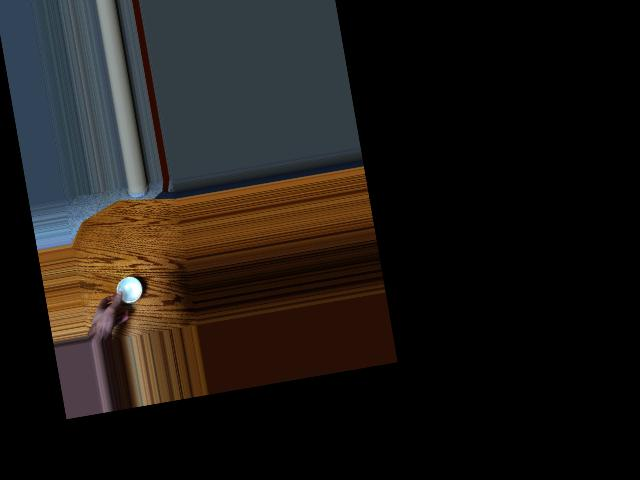cotage: (113, 272, 144, 304)
